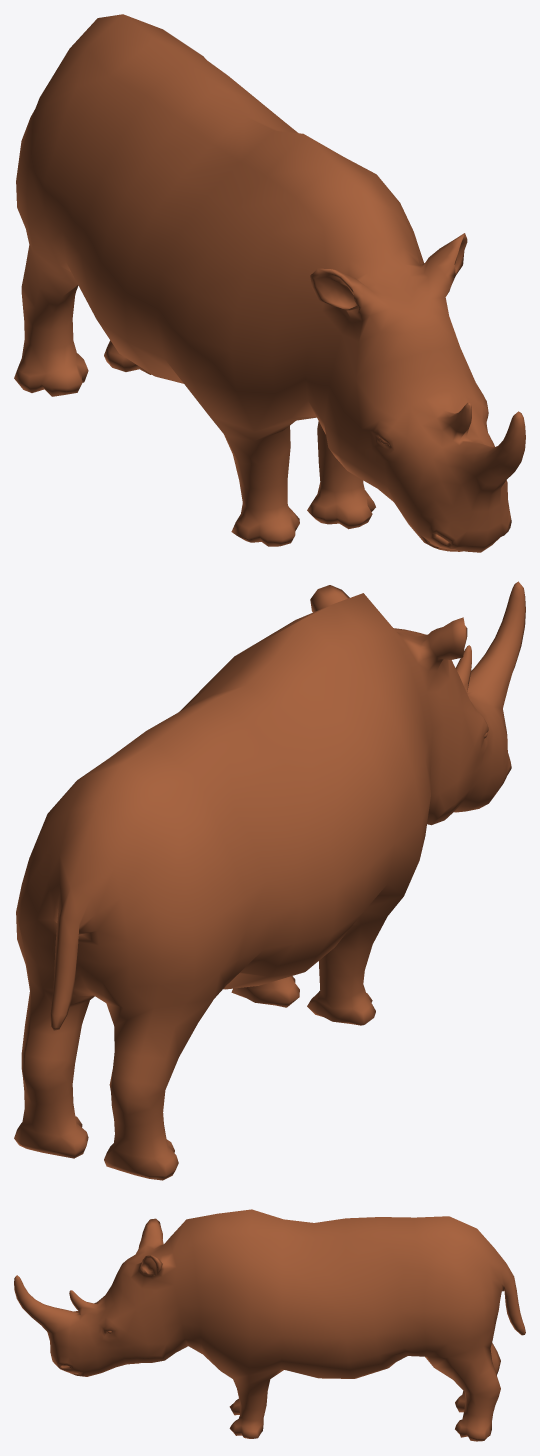
The model's file is Rhino.fbx.
3 views of the same model, one above another, from view 1: azimuth 30°, elevation 25°; view 2: azimuth 150°, elevation 25°; view 3: azimuth 270°, elevation 25° (orthographic). The views are drawn at different scales.
Visible parts, largest first — view 1: Rhino; view 2: Rhino; view 3: Rhino.
Part boxes in pixels (bbox=[...]): Rhino: bbox=[14, 14, 525, 552]; Rhino: bbox=[14, 581, 525, 1180]; Rhino: bbox=[14, 1209, 525, 1441].
Size of the model in its own units: 106 by 162 by 352.
